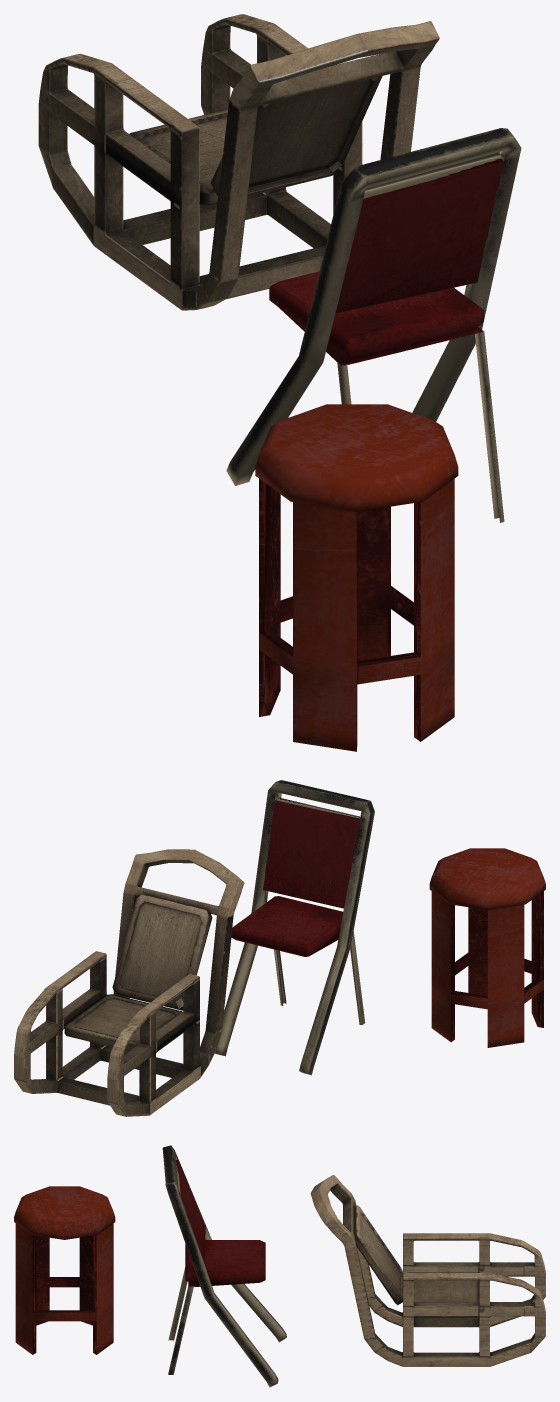
File: chair_variety_final.fbx
3 views of the same model, one above another, from view 1: azimuth 30°, elevation 25°; view 2: azimuth 150°, elevation 25°; view 3: azimuth 270°, elevation 25° (orthographic). The views are drawn at different scales.
Parts seen in each view (by area): view 1: stool, support, chairup, chairdown, top, bottom; view 2: support, stool, chairup, top, chairdown, bottom; view 3: support, stool, chairup, chairdown, top, bottom.
Boxes of the visible parts, left/top/right/bottom form: stool: left=255, top=404, right=458, bottom=751; support: left=38, top=14, right=439, bottom=310; chairup: left=226, top=128, right=521, bottom=485; chairdown: left=269, top=271, right=504, bottom=522; top: left=210, top=56, right=382, bottom=195; bottom: left=129, top=109, right=335, bottom=205; support: left=14, top=849, right=244, bottom=1116; stool: left=429, top=848, right=545, bottom=1047; chairup: left=215, top=780, right=374, bottom=1075; top: left=112, top=894, right=212, bottom=1010; chairdown: left=231, top=896, right=365, bottom=1024; bottom: left=64, top=994, right=182, bottom=1051; support: left=310, top=1175, right=545, bottom=1366; stool: left=14, top=1186, right=115, bottom=1354; chairup: left=162, top=1145, right=286, bottom=1387; chairdown: left=168, top=1240, right=265, bottom=1374; top: left=354, top=1205, right=403, bottom=1305; bottom: left=407, top=1272, right=479, bottom=1301.
Bounding box in the file's own units: 80.46 × 78.84 × 173.
1 material, 1 textured.
